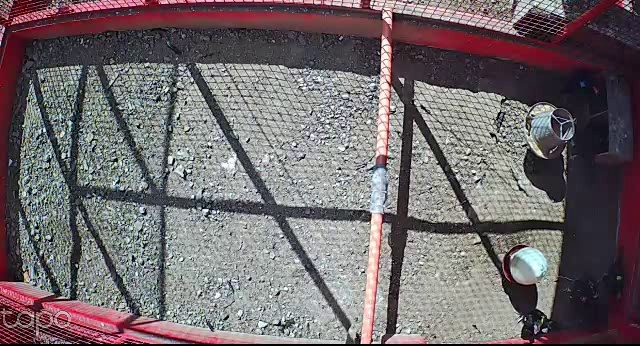Chicken: (511, 299, 562, 342)
Drinker: (501, 245, 550, 283)
Feeder: (521, 98, 577, 163)
